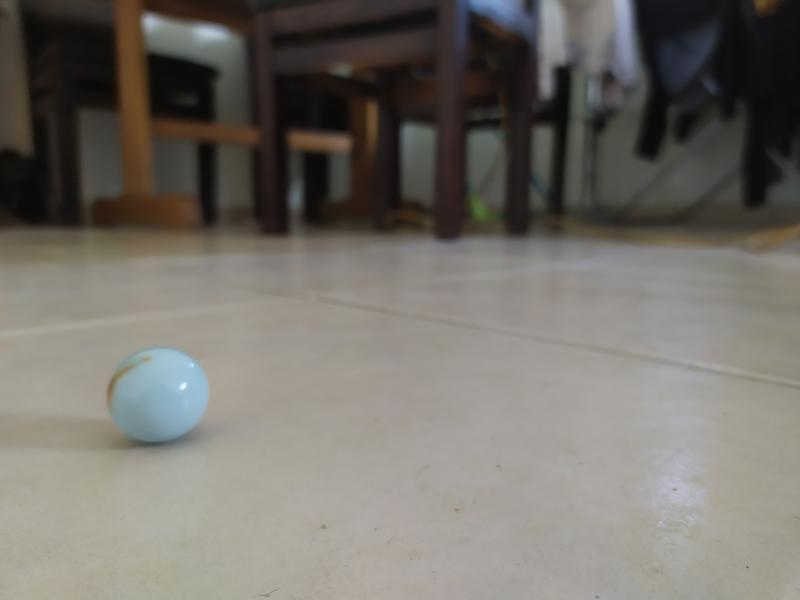Warning: (103, 344, 213, 448)
